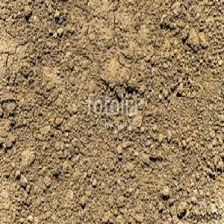clay_soil: (11, 21, 214, 207)
